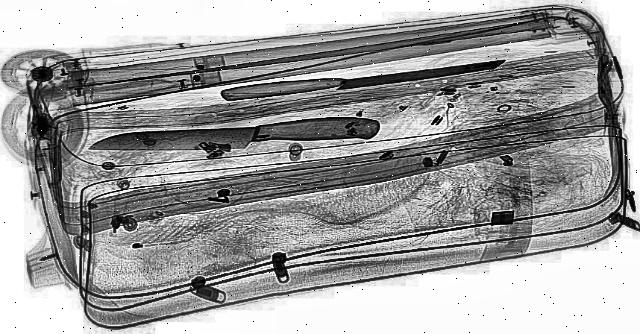Knife: (216, 59, 512, 103), (86, 116, 386, 158)
